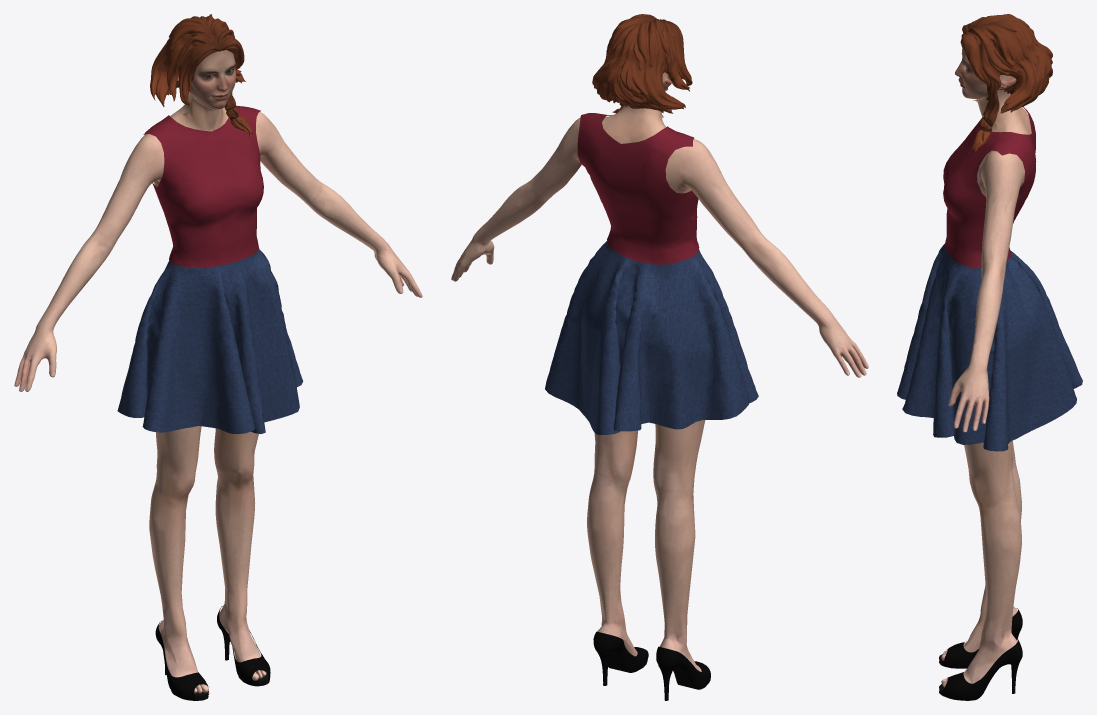
The model's file is jesse.glb.
3 renders of one model, left to right at view 1: azimuth 30°, elevation 25°; view 2: azimuth 150°, elevation 25°; view 3: azimuth 270°, elevation 25°, orthographic. The views are drawn at different scales.
Parts seen in each view (by area): view 1: dress2, body_3, dress2_1, body_2, hair, face, body_1, shoes_r_Shape_1, shoes_l_Shape_1; view 2: dress2, body_3, body_2, dress2_1, hair, body_1, shoes_r_Shape_1, shoes_l_Shape_1; view 3: dress2, body_3, body_2, hair, dress2_1, shoes_l_Shape_1, body_1, face, shoes_r_Shape_1.
Part boxes in pixels (x1,y1,x2,y2): dress2: (117,249,303,434); body_3: (149,426,266,693); dress2_1: (143,105,263,267); body_2: (14,112,422,391); hair: (150,14,252,139); face: (166,50,236,118); body_1: (148,91,259,186); shoes_r_Shape_1: (155,620,209,700); shoes_l_Shape_1: (217,605,270,686); dress2: (545,240,758,434); body_3: (587,420,705,671); body_2: (451,117,868,377); dress2_1: (577,113,699,264); hair: (592,14,692,113); body_1: (602,85,695,193); shoes_r_Shape_1: (656,646,710,689); shoes_l_Shape_1: (593,631,648,672); dress2: (897,243,1082,451); body_3: (941,440,1021,687); body_2: (948,151,1024,432); hair: (960,14,1052,152); dress2_1: (943,106,1036,268); shoes_l_Shape_1: (939,638,1022,700); body_1: (973,87,1031,196); face: (955,48,1016,99); shoes_r_Shape_1: (939,608,1022,668).
Size of the model in its own units: 1.19 by 1.84 by 0.4718.
14 materials, 14 textured.
